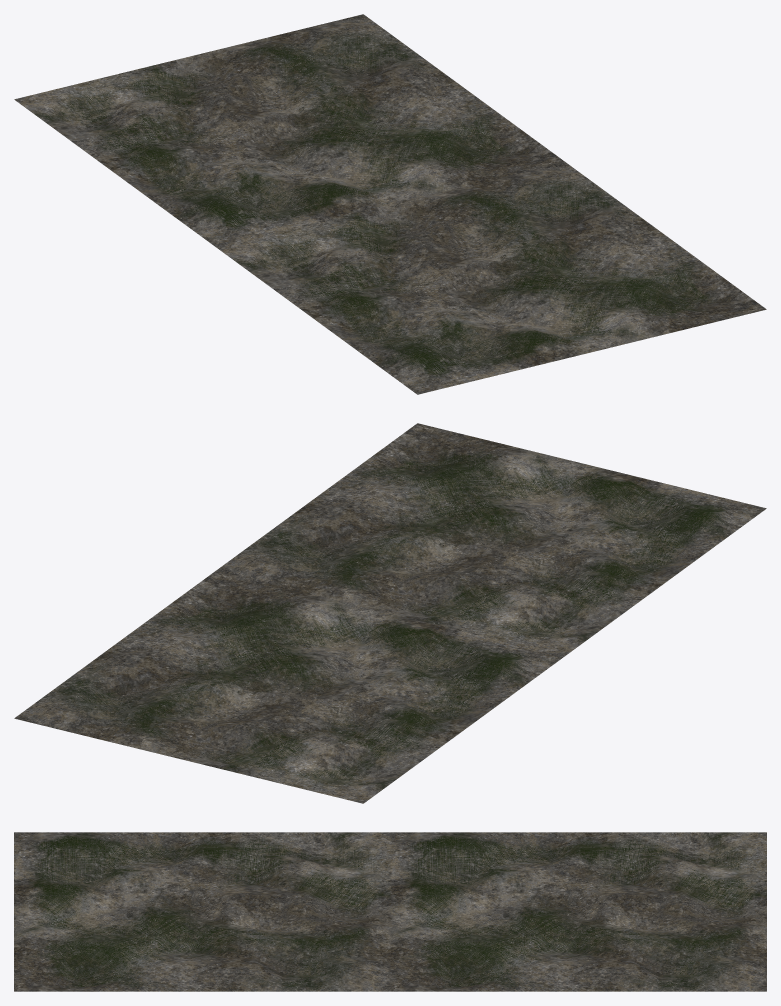
Rendered from underground_floor_1_2.fbx.
3 views of the same model, one above another, from view 1: azimuth 30°, elevation 25°; view 2: azimuth 150°, elevation 25°; view 3: azimuth 270°, elevation 25° (orthographic). The views are drawn at different scales.
Parts seen in each view (by area): view 1: underground_floor_1_2; view 2: underground_floor_1_2; view 3: underground_floor_1_2.
Boxes of the visible parts, x1,y1,x2,y2 form: underground_floor_1_2: (14,14,766,394); underground_floor_1_2: (14,423,766,803); underground_floor_1_2: (14,832,766,991).
Size of the model in its own units: 330 by 14.52 by 660.
Materials: 1 (1 with a texture image).
